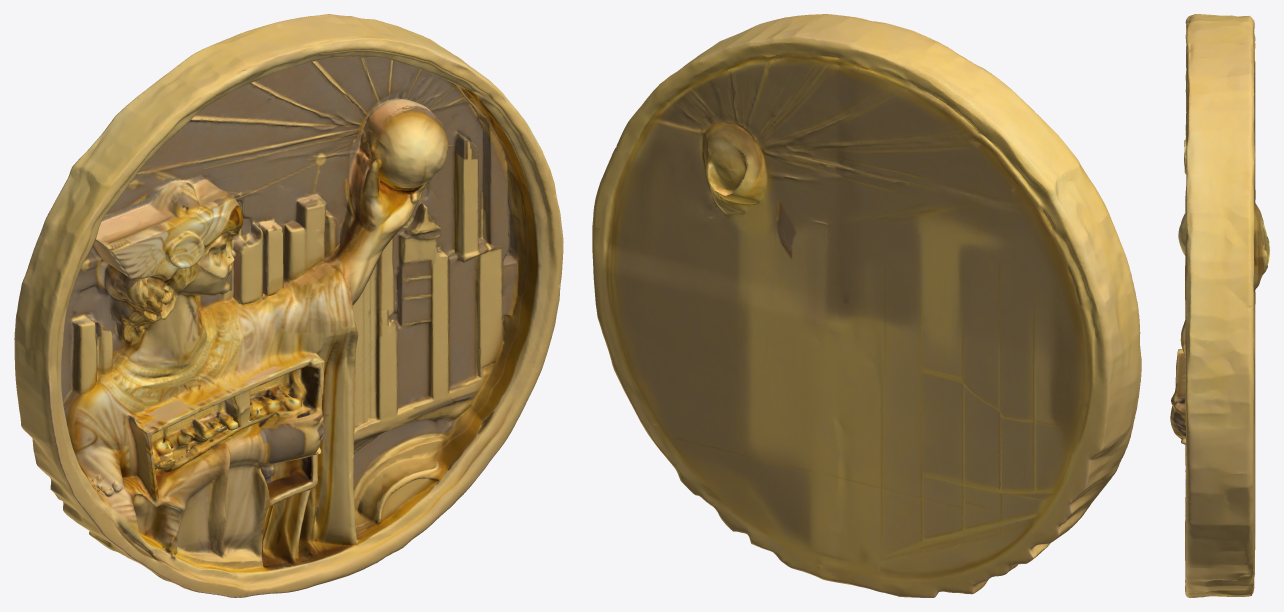
File: a16z_medallion.glb
3 views of the same model, side by side, from view 1: azimuth 30°, elevation 25°; view 2: azimuth 150°, elevation 25°; view 3: azimuth 270°, elevation 25° (orthographic). The views are drawn at different scales.
Bounding box in the file's own units: 2 × 2 × 0.3433.
Materials: 1 (1 with a texture image).
